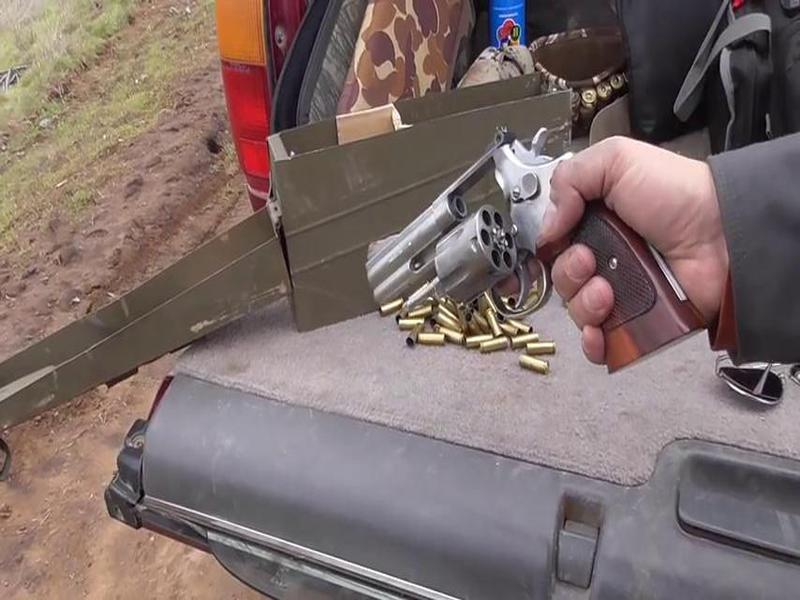Revolver: (312, 105, 720, 405)
